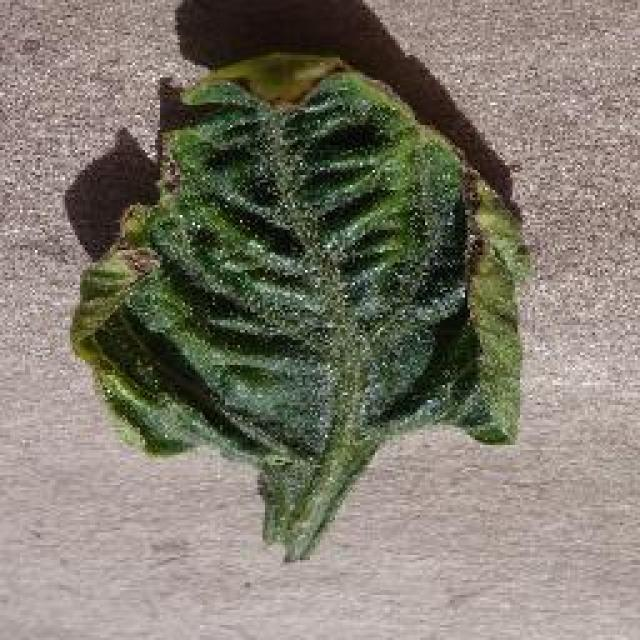Tom_Yellow_Leaf_Curl_Virus: (90, 75, 524, 446)
